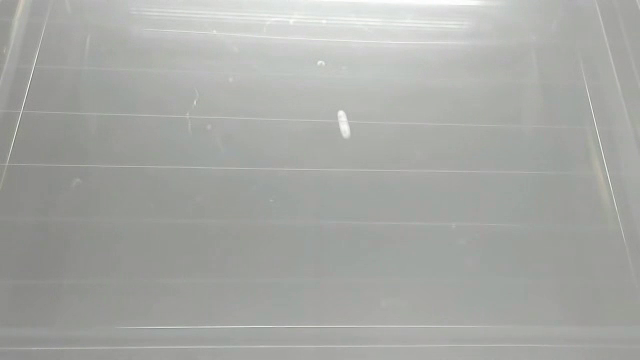alpha: (335, 106, 355, 144)
